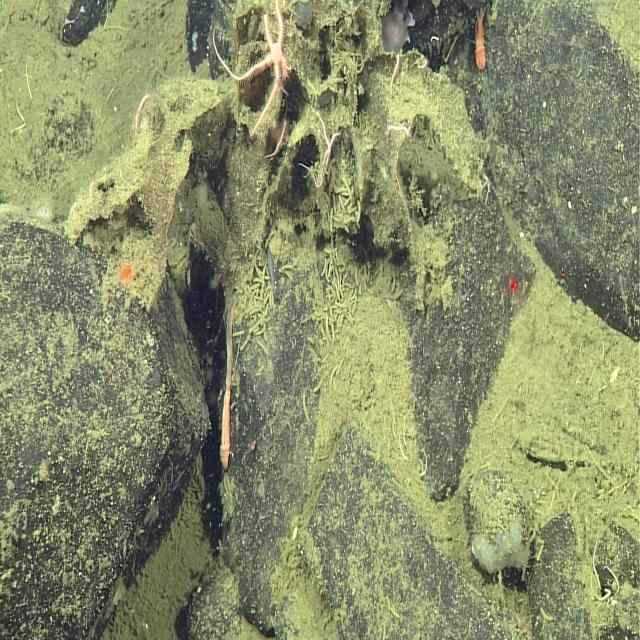Brittle Star: (591, 556, 624, 620), (476, 164, 501, 210), (384, 121, 416, 140)
Not Brittle Star: (213, 3, 293, 148), (212, 289, 239, 475), (468, 520, 534, 580), (468, 11, 492, 73)
